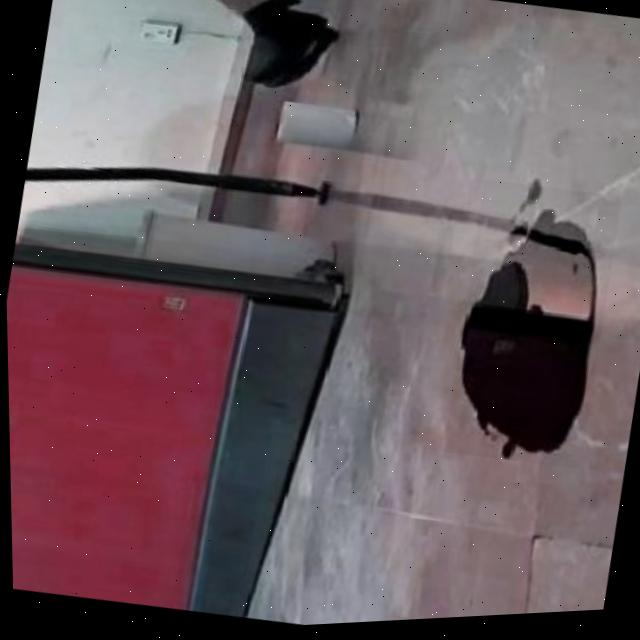spillage: (457, 191, 592, 470)
